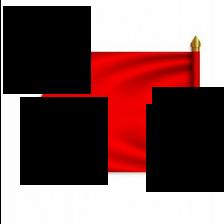red: (34, 44, 199, 187)
